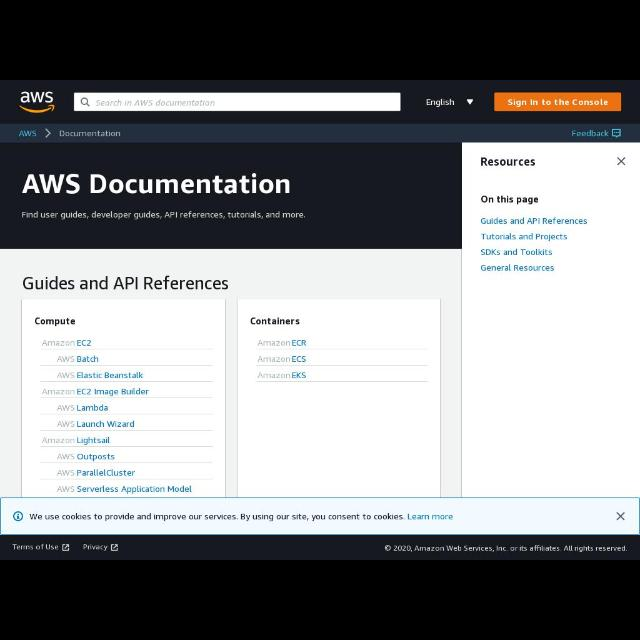icon: (13, 511, 23, 521), (80, 98, 90, 106), (616, 158, 626, 166), (616, 512, 624, 522), (612, 129, 620, 137), (61, 543, 69, 551), (465, 98, 473, 105), (112, 544, 118, 550), (384, 544, 390, 550)
image: (18, 90, 56, 114)
input: (74, 94, 400, 110)
spinner: (422, 92, 474, 110)
text: (22, 174, 290, 196), (31, 513, 456, 521), (23, 276, 228, 292), (21, 210, 306, 220), (393, 545, 627, 553), (58, 484, 194, 494), (480, 217, 588, 227), (42, 387, 148, 397), (96, 99, 216, 107), (508, 99, 608, 108), (482, 233, 566, 243), (58, 372, 144, 381), (481, 264, 555, 274), (482, 249, 552, 259), (42, 436, 110, 446), (482, 194, 538, 206), (482, 155, 536, 167), (58, 420, 134, 428), (59, 452, 115, 462), (57, 469, 135, 476), (58, 130, 122, 138), (56, 403, 110, 412), (56, 354, 100, 364), (258, 339, 306, 348), (34, 316, 74, 326), (258, 372, 306, 380), (571, 128, 609, 138), (12, 543, 58, 551), (43, 339, 91, 346), (258, 357, 306, 363), (252, 318, 298, 324), (426, 98, 454, 106), (82, 543, 108, 551), (20, 129, 34, 139)
textbutton: (494, 93, 622, 111)
